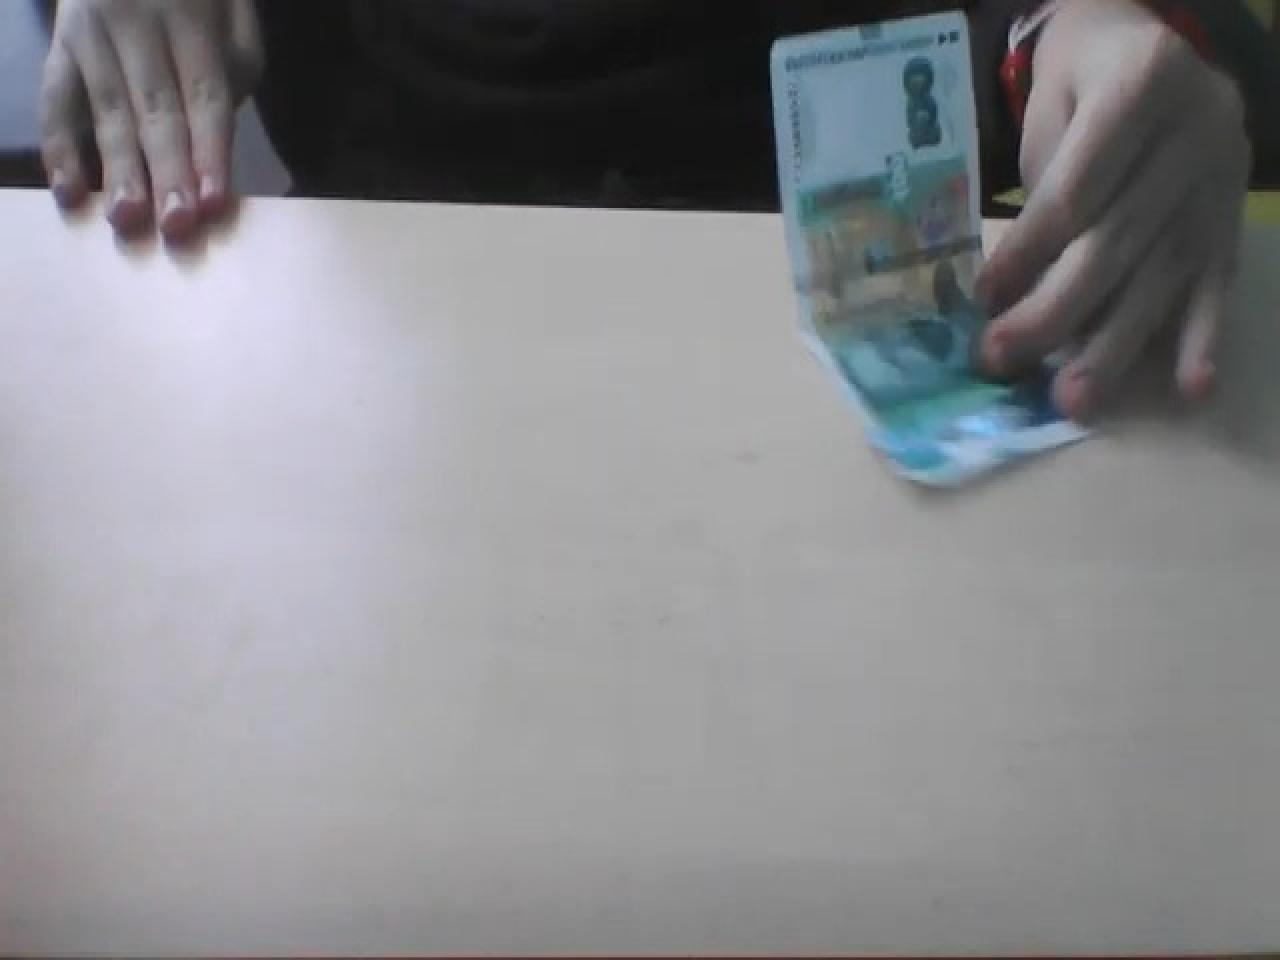100leva: (766, 8, 1094, 491)
